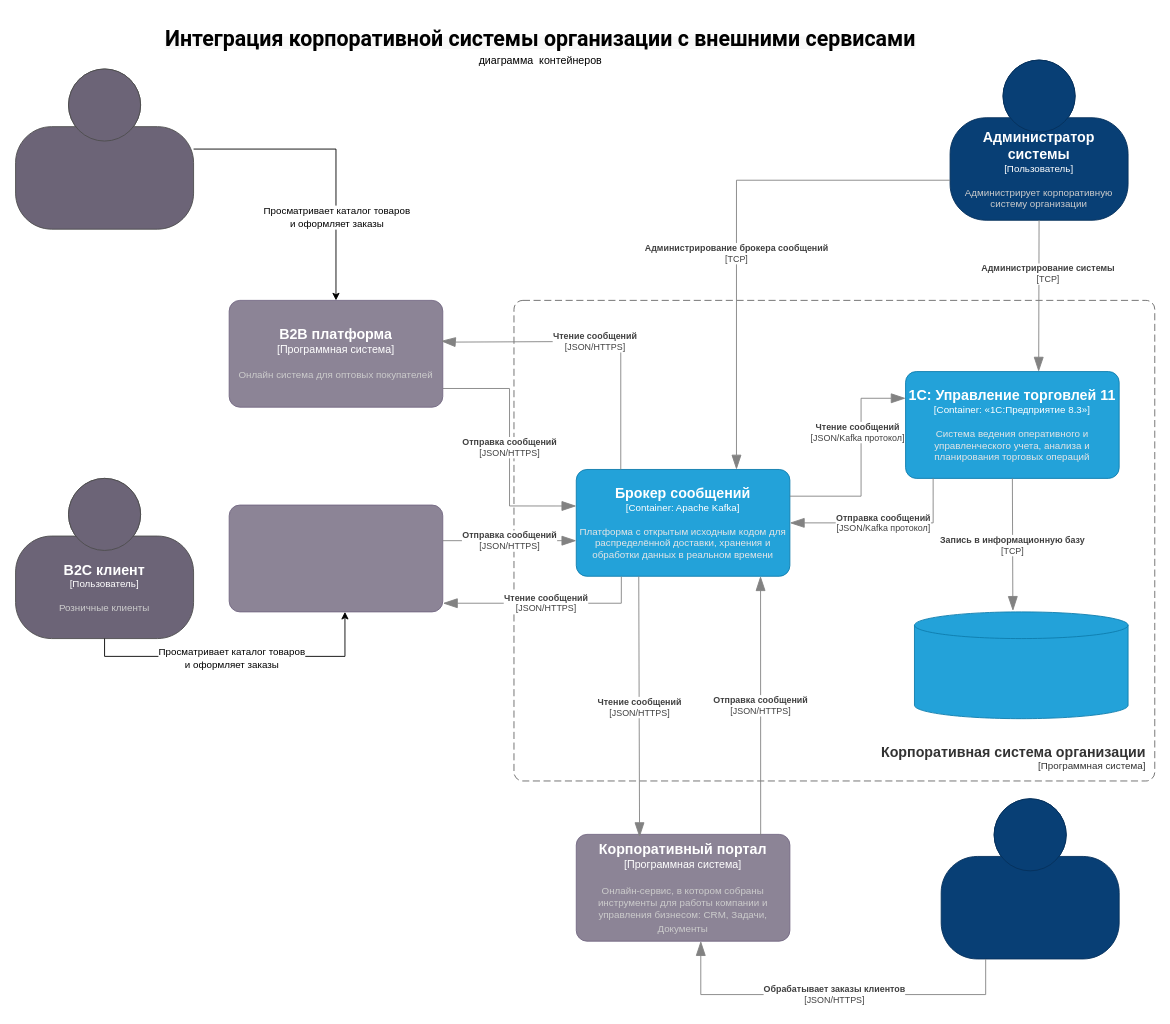
The diagram is 1170 pixels wide and 1024 high, and some of its shapes have lost their labels. The shapes that lost their labels are listed below. From the top down, each one's centre as x and y in pixels, then its label:
point 104,148: B2B клиент [Пользователь] Оптовые клиенты компании
point 335,558: B2C платформа [Программная система] Интернет магазин для розничных покупателей
point 1021,665: Центральная СУБД [Container: Pervasive.SQL] Система управления базой данных
point 1029,878: Менеджер [Пользователь] Сотрудники департамента продаж
